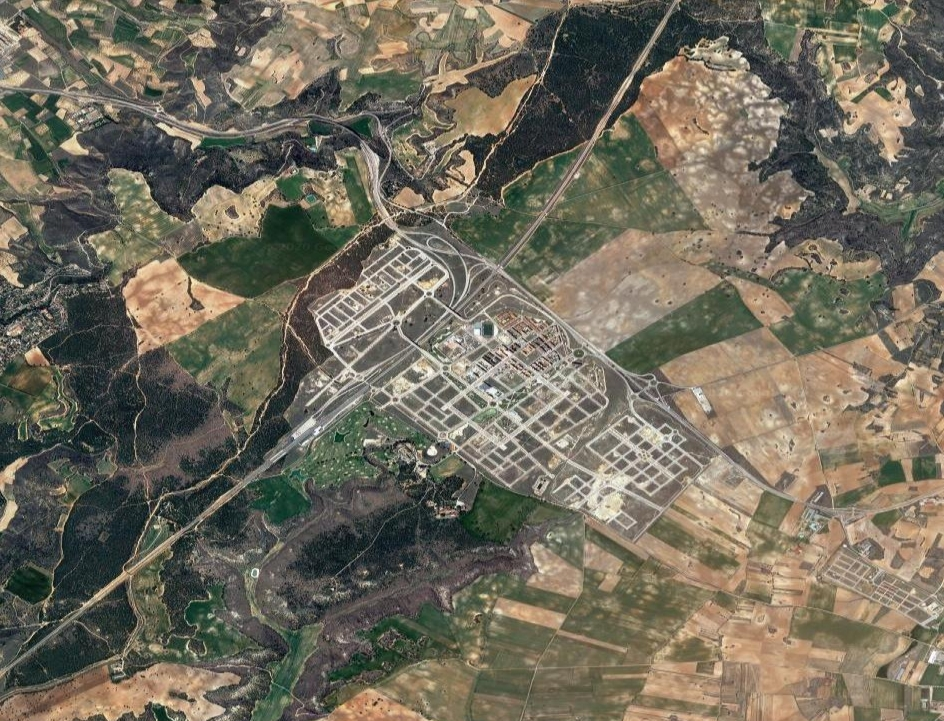industrial: (325, 248, 689, 529)
motorway: (13, 376, 346, 705), (478, 1, 723, 265)
